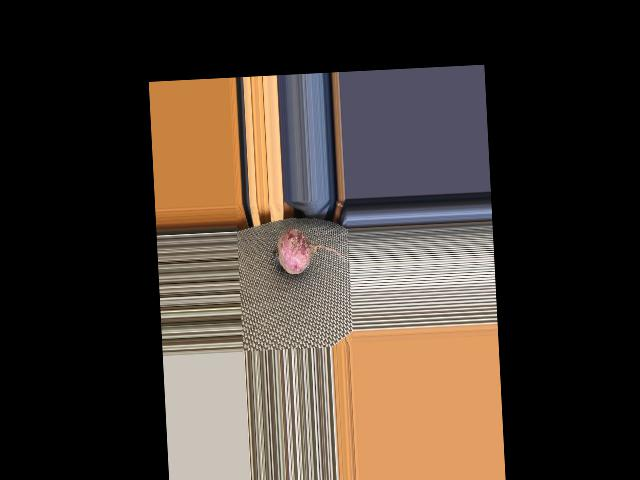beet: (270, 225, 344, 274)
